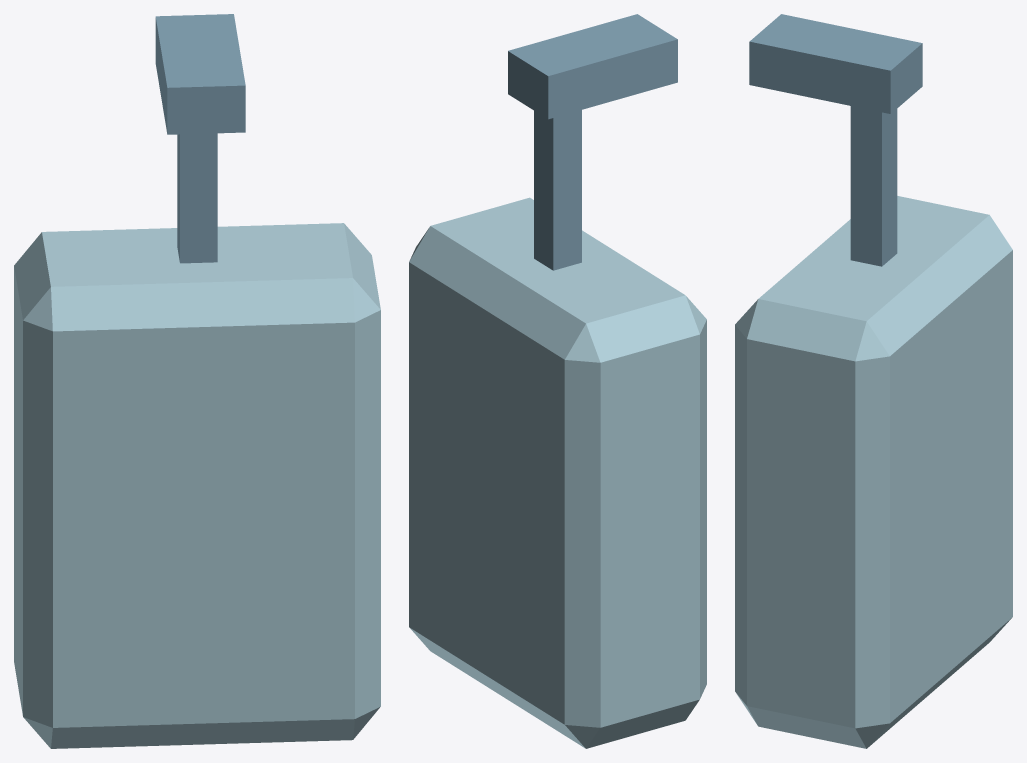
File: Bathroom2_soap.fbx
3 renders of one model, left to right at view 1: azimuth 30°, elevation 25°; view 2: azimuth 150°, elevation 25°; view 3: azimuth 270°, elevation 25°, orthographic. The views are drawn at different scales.
Visible parts, largest first — view 1: Bathroom2_soap; view 2: Bathroom2_soap; view 3: Bathroom2_soap.
Boxes of the visible parts, box(x1,y1,x2,y2) form: Bathroom2_soap: box(14, 14, 380, 748); Bathroom2_soap: box(409, 14, 706, 748); Bathroom2_soap: box(735, 14, 1012, 748).
Size of the model in its own units: 12.14 by 24.2 by 9.61.
